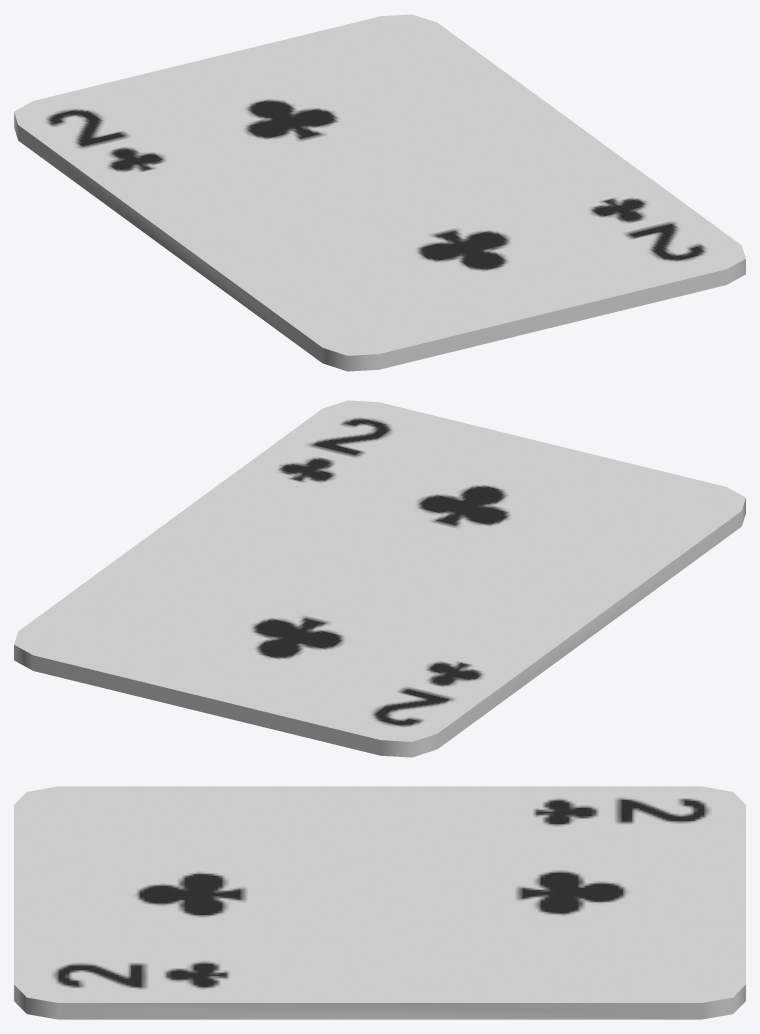
File: Karta_2T.fbx
3 views of the same model, one above another, from view 1: azimuth 30°, elevation 25°; view 2: azimuth 150°, elevation 25°; view 3: azimuth 270°, elevation 25° (orthographic). The views are drawn at different scales.
Visible parts, largest first — view 1: KARTA; view 2: KARTA; view 3: KARTA.
Part boxes in pixels (x1,y1,x2,y2): KARTA: [14, 14, 745, 371]; KARTA: [14, 400, 745, 757]; KARTA: [14, 786, 745, 1019].
Bounding box in the file's own units: 840 × 30 × 1200.
